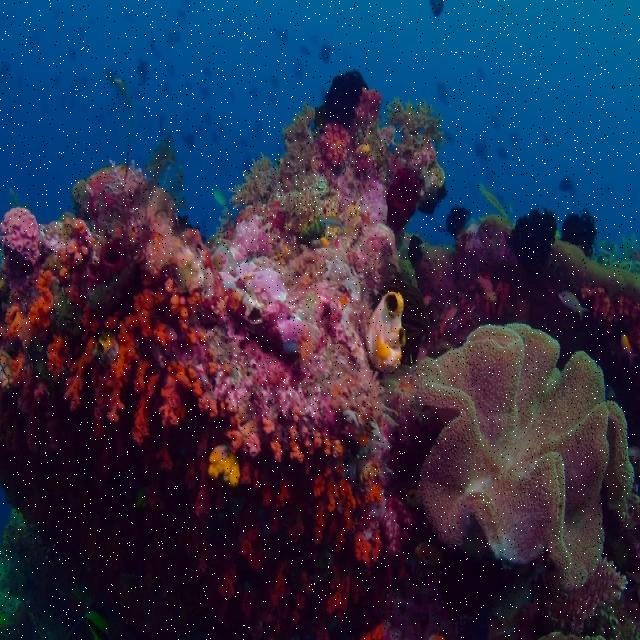reefs: (0, 87, 639, 639), (419, 321, 636, 589)
